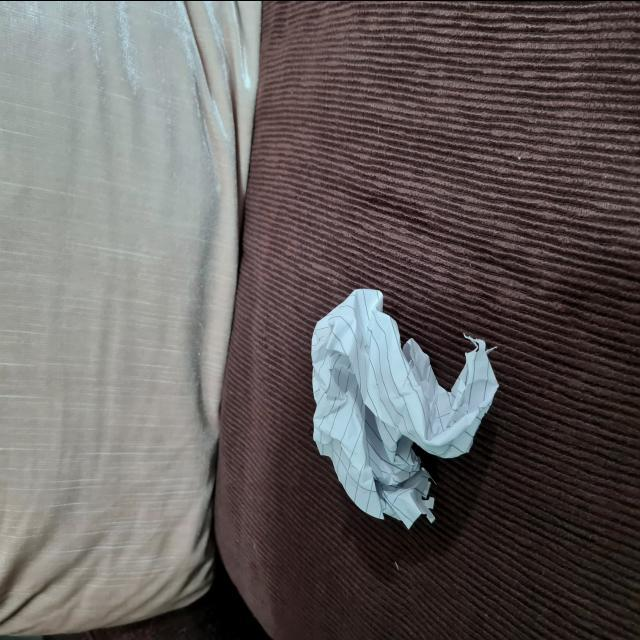Paper: (308, 285, 502, 519)
